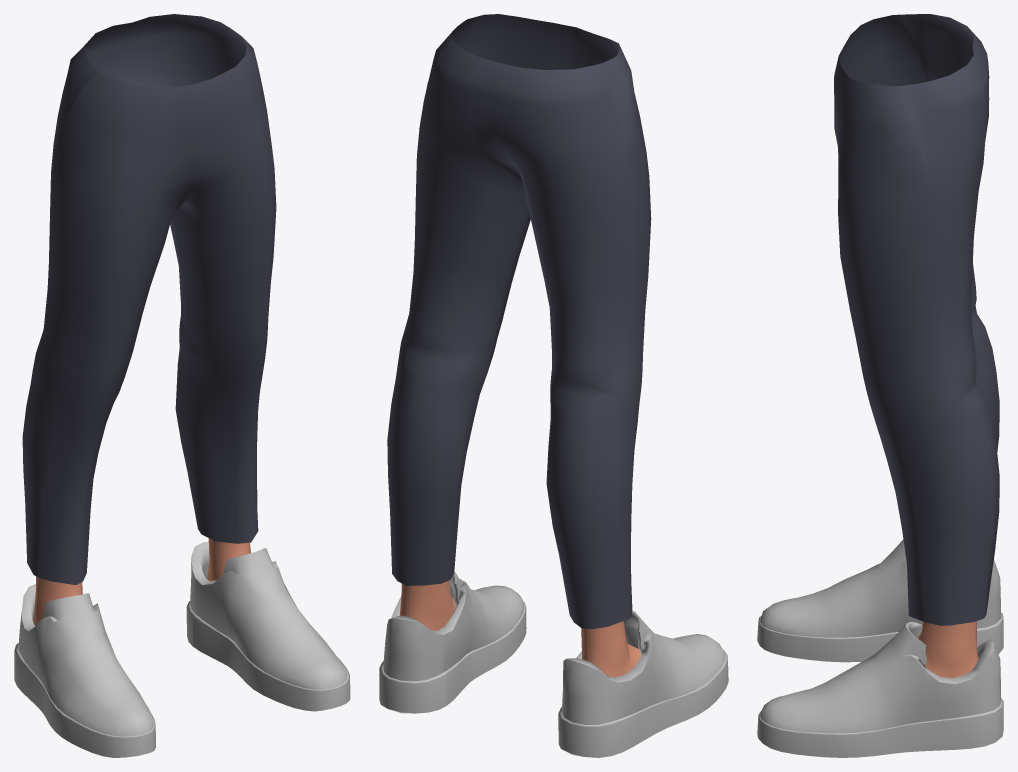
File: man1_lowerBody.glb
3 renders of one model, left to right at view 1: azimuth 30°, elevation 25°; view 2: azimuth 150°, elevation 25°; view 3: azimuth 270°, elevation 25°, orthographic. The views are drawn at different scales.
Visible parts, largest first — view 1: Wolf3D_Outfit_Bottom.001, Wolf3D_Outfit_Footwear.001, Wolf3D_Body.004, Wolf3D_Body.001; view 2: Wolf3D_Outfit_Bottom.001, Wolf3D_Outfit_Footwear.001, Wolf3D_Body.002, Wolf3D_Body.005, Wolf3D_Body.004; view 3: Wolf3D_Outfit_Bottom.001, Wolf3D_Outfit_Footwear.001, Wolf3D_Body.005, Wolf3D_Body.004.
Boxes of the visible parts, box(x1,y1,x2,y2) form: Wolf3D_Outfit_Bottom.001: box(22, 14, 276, 584); Wolf3D_Outfit_Footwear.001: box(14, 542, 350, 757); Wolf3D_Body.004: box(208, 538, 250, 580); Wolf3D_Body.001: box(35, 578, 82, 623); Wolf3D_Outfit_Bottom.001: box(387, 14, 651, 628); Wolf3D_Outfit_Footwear.001: box(379, 571, 728, 757); Wolf3D_Body.002: box(581, 622, 625, 677); Wolf3D_Body.005: box(400, 583, 435, 630); Wolf3D_Body.004: box(434, 580, 454, 630); Wolf3D_Outfit_Bottom.001: box(834, 14, 999, 625); Wolf3D_Outfit_Footwear.001: box(757, 539, 1003, 757); Wolf3D_Body.005: box(949, 621, 978, 677); Wolf3D_Body.004: box(918, 621, 951, 677).
Bounding box in the file's own units: 4.59 × 10.39 × 3.59.
